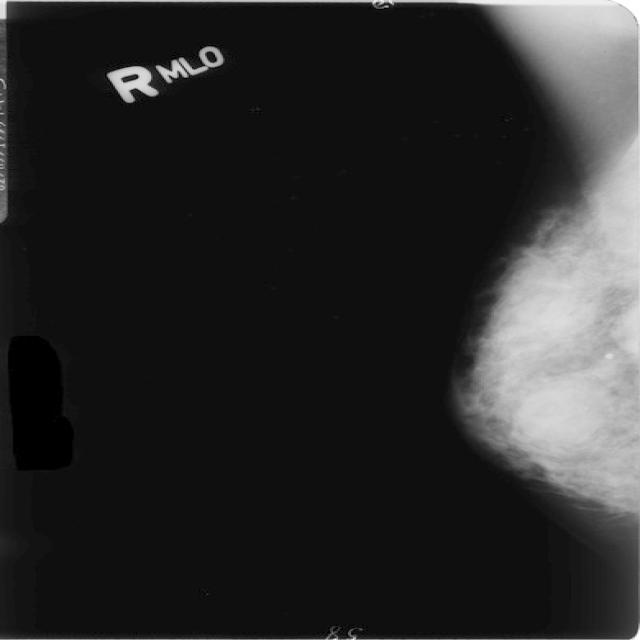tumour: (512, 373, 617, 459)
